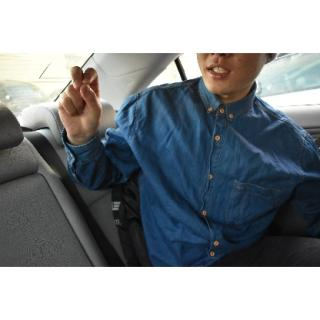QAAF: (55, 62, 103, 136)
